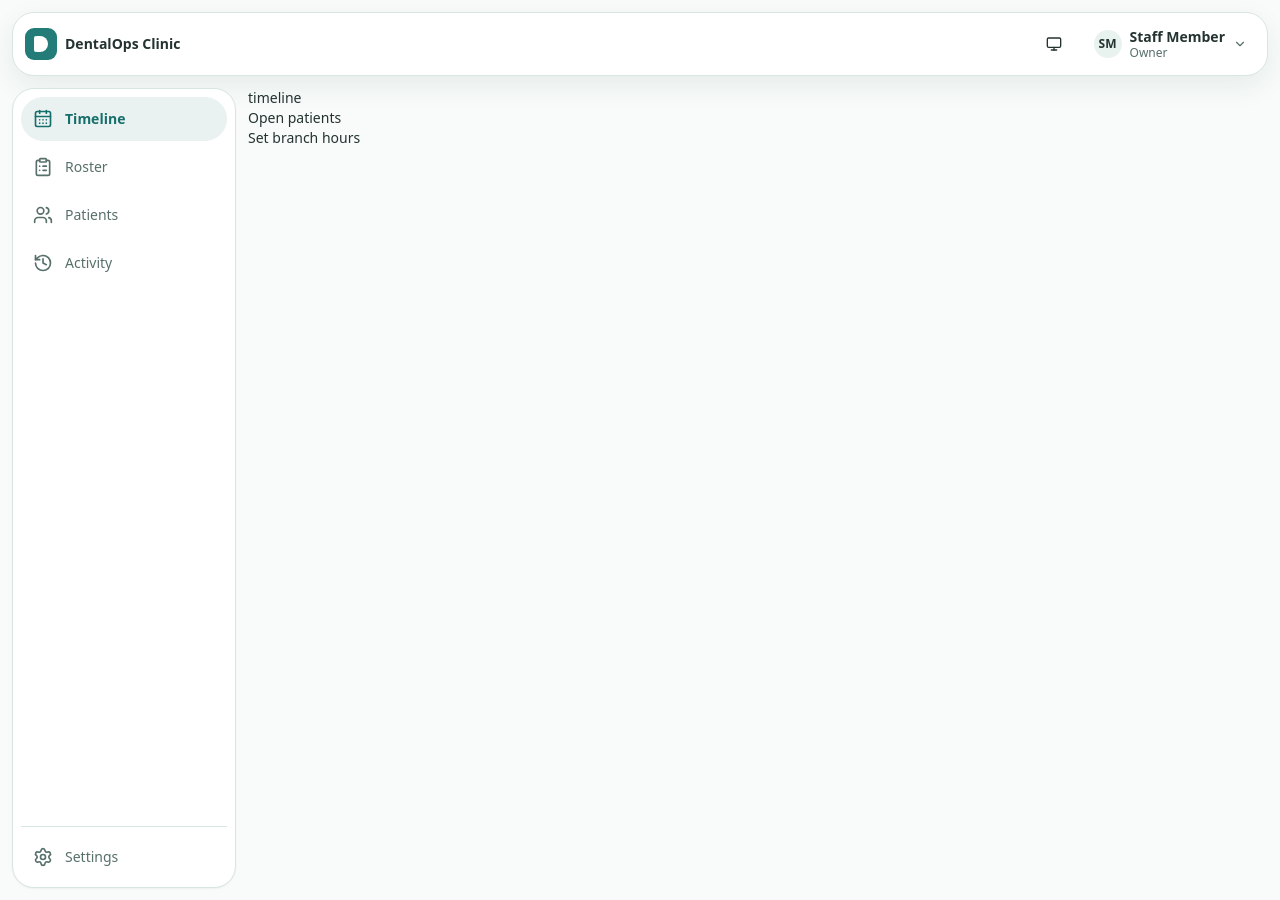
Test: AppShell navigation › lands a hashed deep link on the section it names instead of the top of the page
This screenshot has width=1280, height=900.
What coordinates should you click on to do the following:
click the link "Set branch hours"
I would click on:
 (304, 138)
Its box is x1=248 y1=128 x2=360 y2=147.
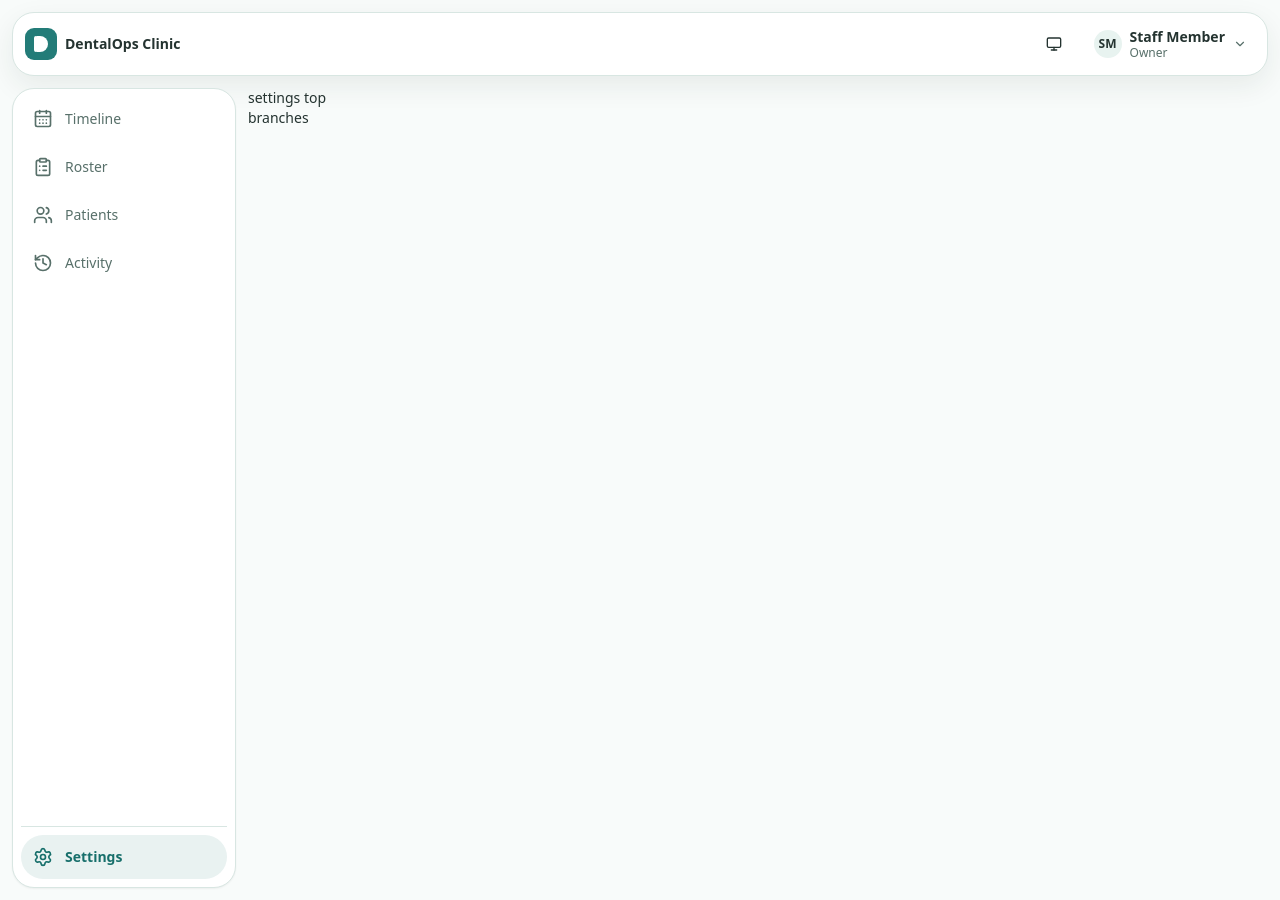
Expected: the text "branches" is shown, x1=248 y1=108 x2=309 y2=127
